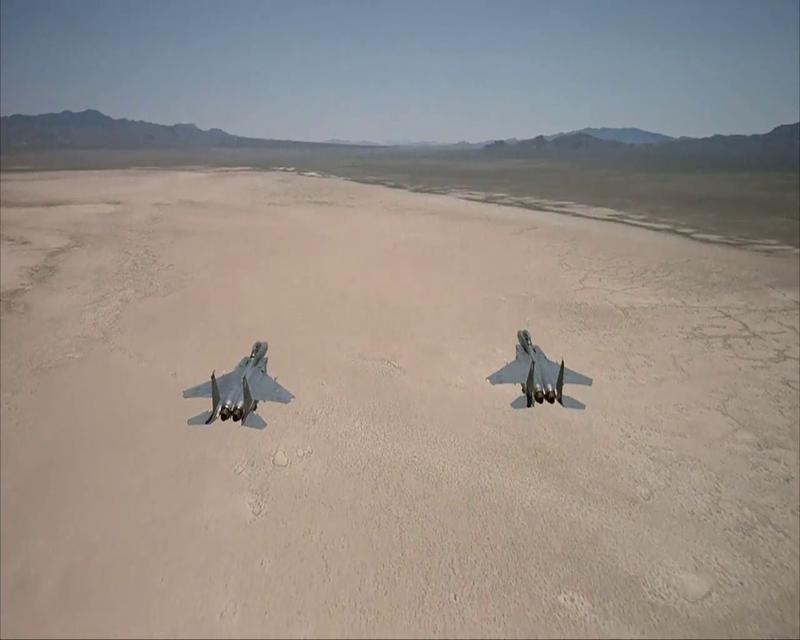UAV: (181, 341, 295, 429), (486, 328, 592, 412)
